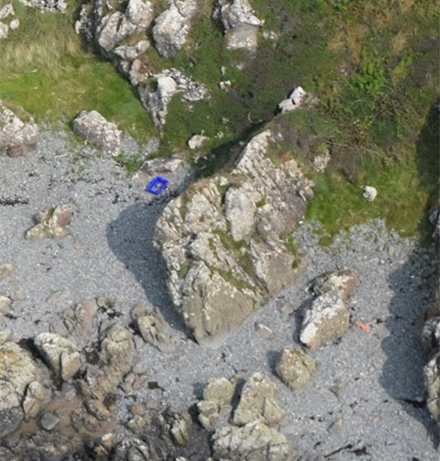white_in_green: (126, 153, 189, 214)
